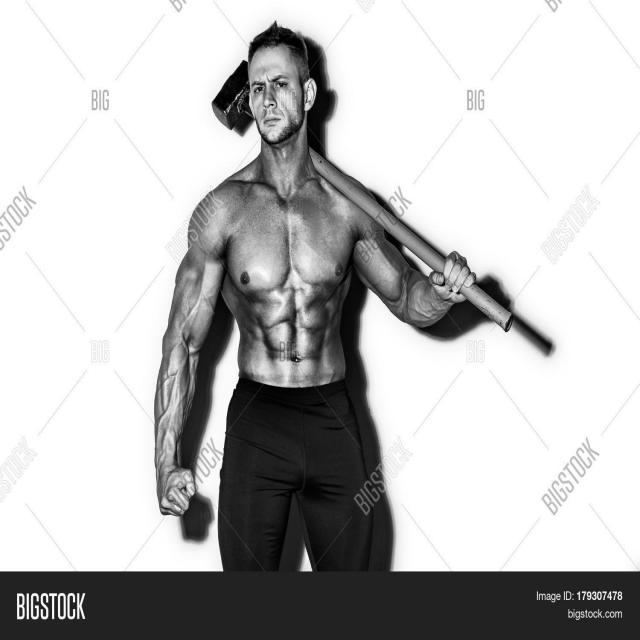hammer: (205, 48, 518, 352)
